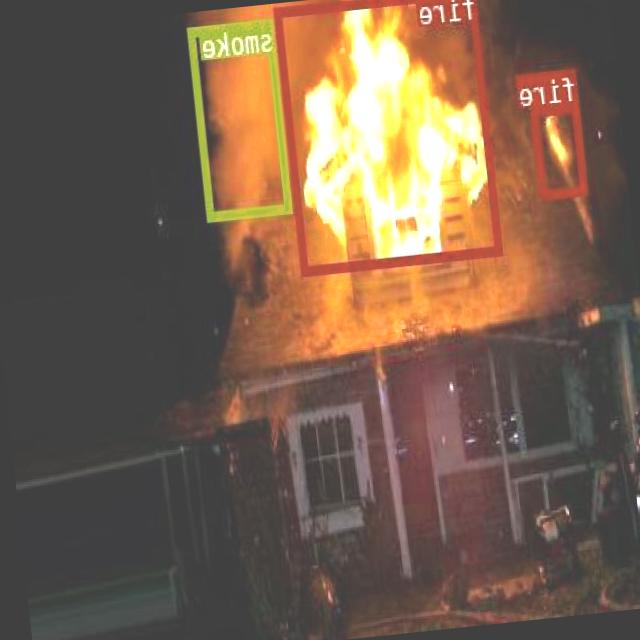fire: (275, 0, 503, 273), (531, 100, 590, 196)
smoke: (188, 18, 294, 219)
